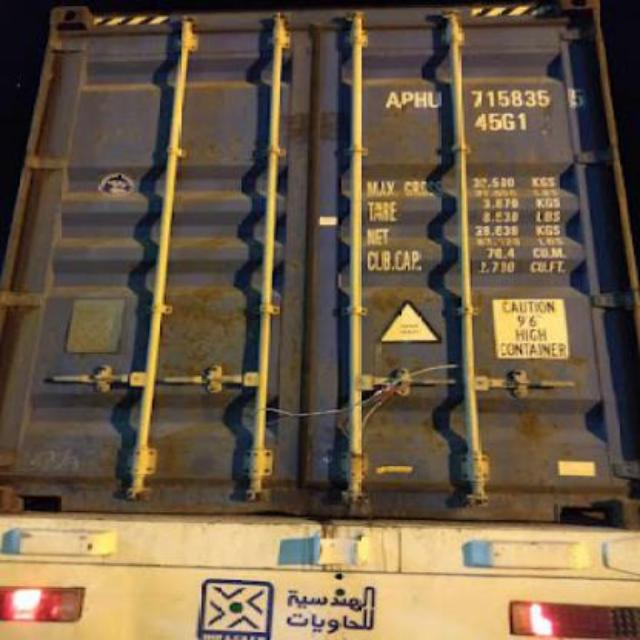1: (485, 90, 495, 108)
3: (524, 89, 536, 107)
5: (568, 88, 588, 108), (537, 89, 551, 108), (498, 89, 510, 109)
7: (470, 90, 482, 108)
8: (511, 88, 524, 109)
A: (385, 90, 401, 110)
H: (414, 90, 428, 110)
P: (401, 90, 414, 110)
U: (428, 91, 442, 109)
